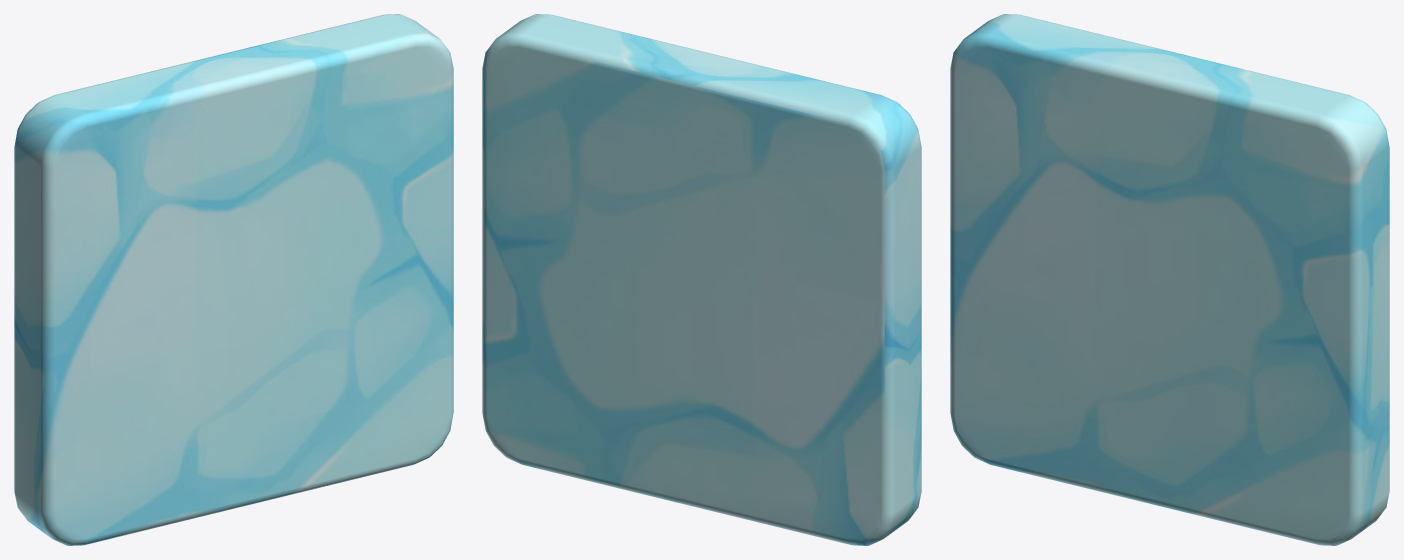
Rendered from Ice_TwoSquare.fbx.
The picture shows the model from 3 angles, left to right: view 1: azimuth 30°, elevation 25°; view 2: azimuth 150°, elevation 25°; view 3: azimuth 330°, elevation 25°; orthographic projection.
Visible parts, largest first — view 1: Ice_TwoSquare; view 2: Ice_TwoSquare; view 3: Ice_TwoSquare.
Boxes of the visible parts, x1,y1,x2,y2 form: Ice_TwoSquare: [14, 14, 453, 545]; Ice_TwoSquare: [482, 14, 921, 545]; Ice_TwoSquare: [950, 14, 1389, 545].
Size of the model in its own units: 2 by 2 by 0.3.
1 material, 1 textured.
